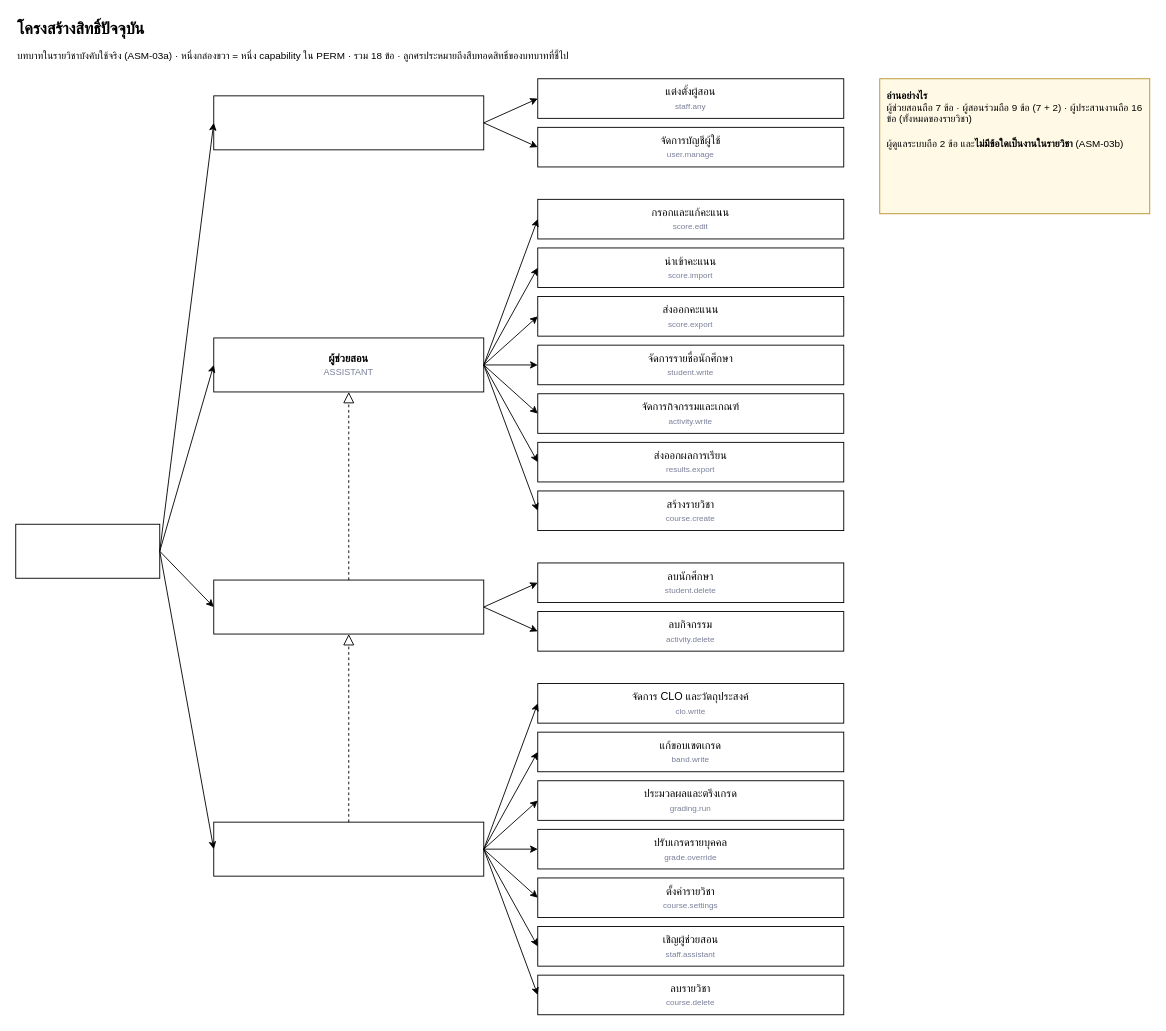
The diagram is 1166 pixels wide and 1031 high, and some of its shapes have lost their labels. Here are the shapes that lost their labels. From the top down, the centre of each, then its label:
At point 348,122: "ผู้ดูแลระบบ ADMIN".
At point 87,550: "System".
At point 348,606: "ผู้สอนร่วม CO — เพิ่มจากผู้ช่วยสอน".
At point 348,848: "ผู้ประสานงานรายวิชา LEAD — เพิ่มจากผู้สอนร่วม".
